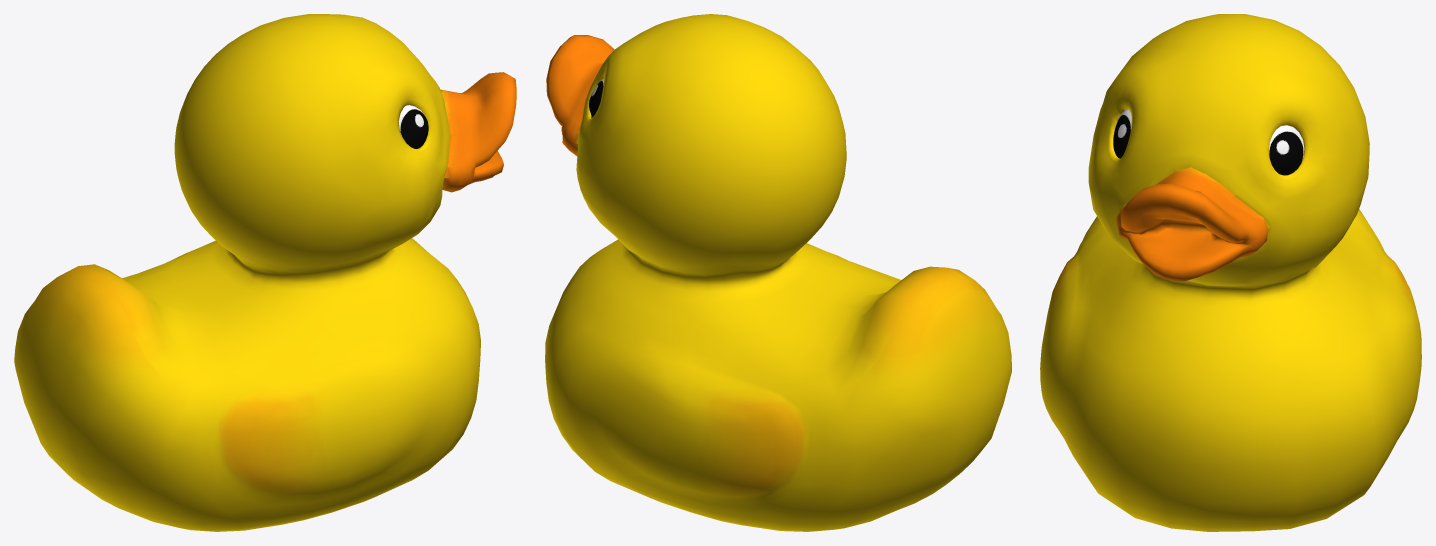
3 views of the same model, side by side, from view 1: azimuth 30°, elevation 25°; view 2: azimuth 150°, elevation 25°; view 3: azimuth 270°, elevation 25° (orthographic). The views are drawn at different scales.
Visible parts, largest first — view 1: LOD3spShape; view 2: LOD3spShape; view 3: LOD3spShape.
Part boxes in pixels (x1=…): LOD3spShape: x1=14, y1=14, x2=516, y2=531; LOD3spShape: x1=545, y1=14, x2=1011, y2=531; LOD3spShape: x1=1040, y1=14, x2=1421, y2=531.
Size of the model in its own units: 21.49 by 20 by 14.96.
Materials: 1 (1 with a texture image).
